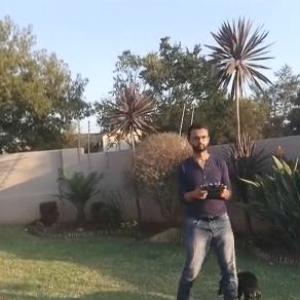follow: (172, 114, 241, 299)
null: (215, 266, 264, 299)
